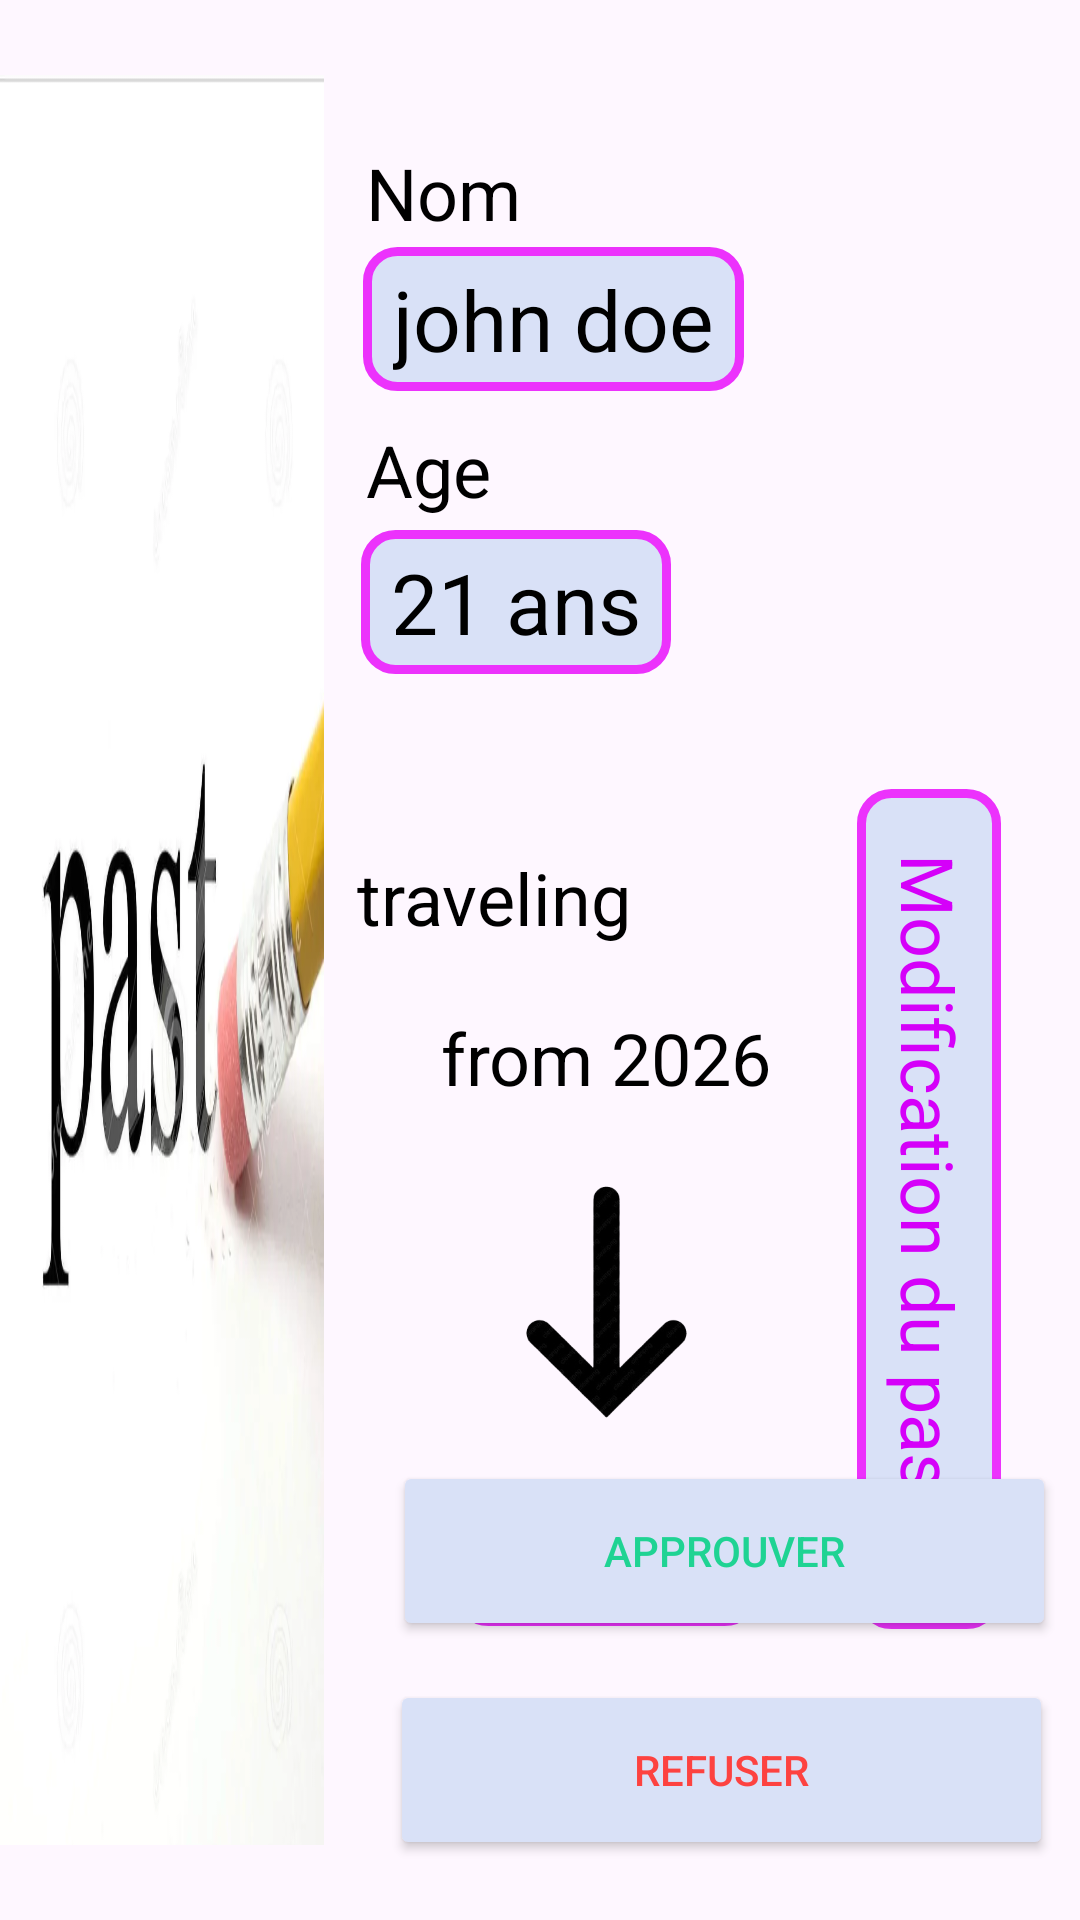

Locate icon controls on the screen. Image size 1080*1920, boxes as (x1,y1,x2,y2).
arrow: (526,1186,687,1418)
